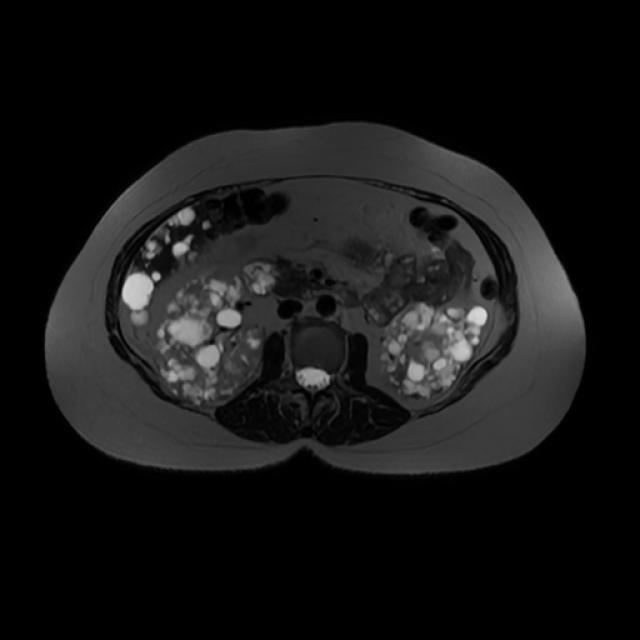sag: (161, 271, 266, 401)
sol: (384, 302, 487, 396)
